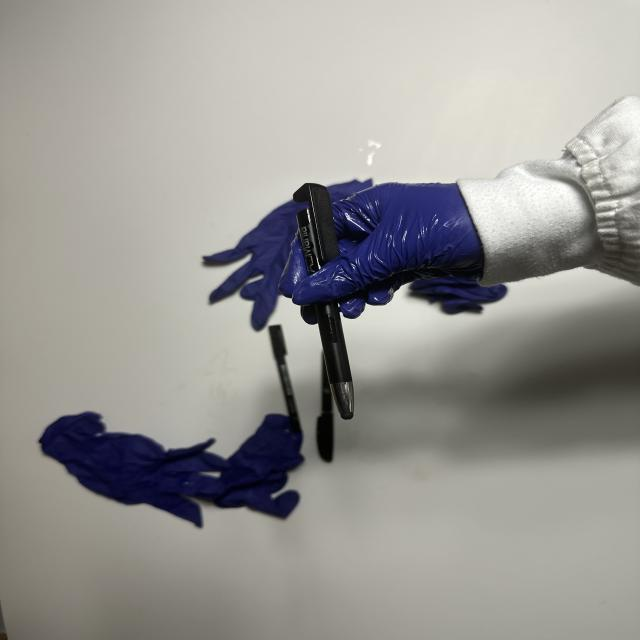gloves_contaminated: (279, 183, 484, 324)
